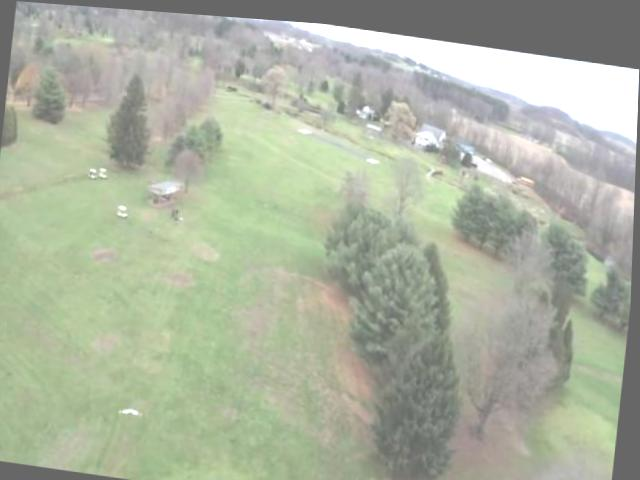flying wing: (120, 400, 147, 420)
